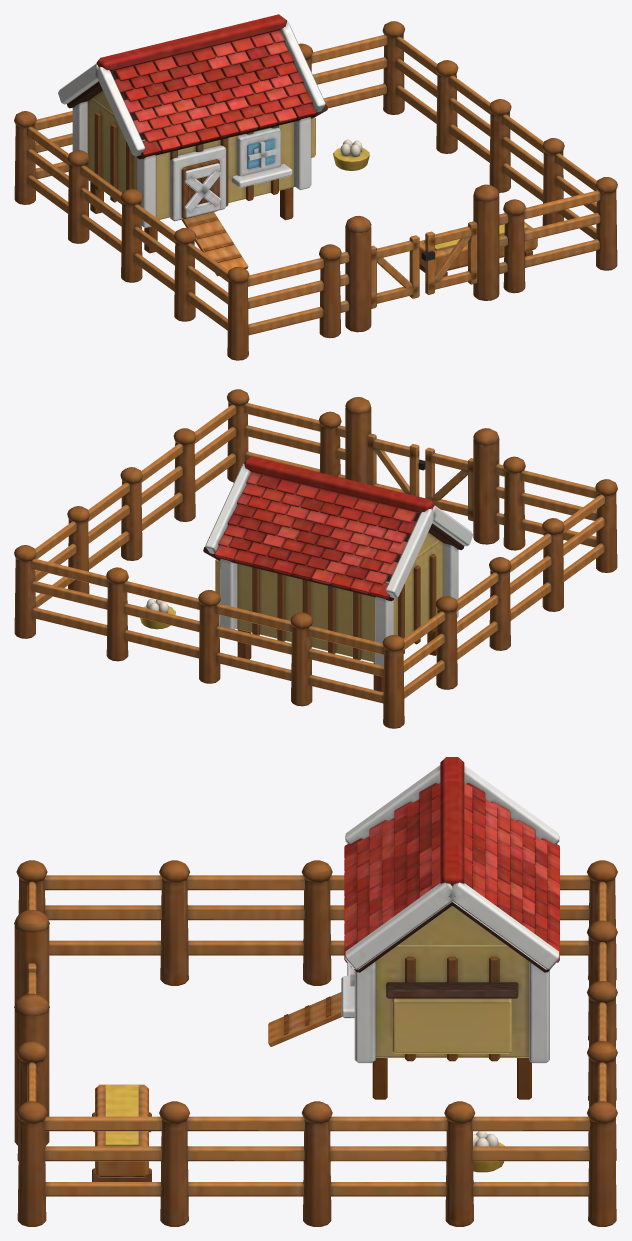
File: polish_coop.glb
The picture shows the model from 3 angles, top to bottom: view 1: azimuth 30°, elevation 25°; view 2: azimuth 150°, elevation 25°; view 3: azimuth 270°, elevation 25°; orthographic projection. The views are drawn at different scales.
Visible parts, largest first — view 1: polish_coop, gate1, gate0; view 2: polish_coop, gate1, gate0; view 3: polish_coop.
Boxes of the visible parts, x1,y1,x2,y2 form: polish_coop: [14, 14, 617, 360]; gate1: [421, 221, 477, 294]; gate0: [371, 235, 419, 308]; polish_coop: [14, 389, 617, 728]; gate1: [367, 433, 425, 496]; gate0: [425, 447, 473, 521]; polish_coop: [14, 757, 617, 1226].
Size of the model in its own units: 2 by 0.8813 by 2.01.
1 material, 1 textured.
